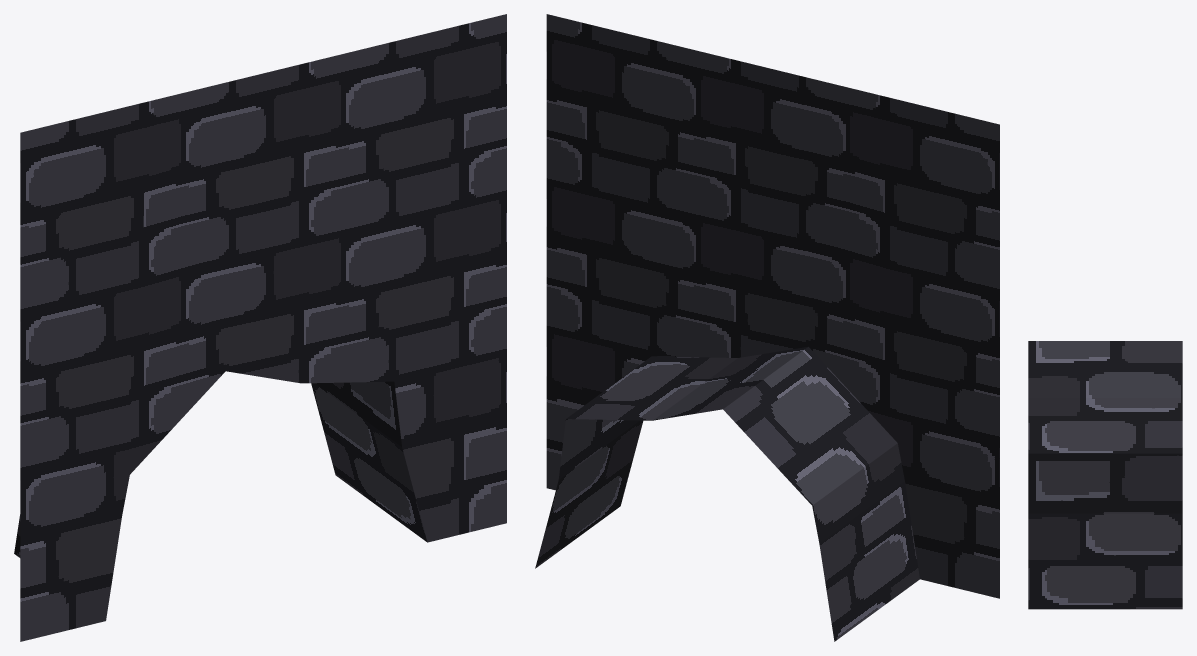
The model's file is BrokenWall.fbx.
3 renders of one model, left to right at view 1: azimuth 30°, elevation 25°; view 2: azimuth 150°, elevation 25°; view 3: azimuth 270°, elevation 25°, orthographic. The views are drawn at different scales.
Parts seen in each view (by area): view 1: Wall.003; view 2: Wall.003; view 3: Wall.003.
Part boxes in pixels (left/top/right/bottom): Wall.003: left=14, top=14, right=506, bottom=641; Wall.003: left=535, top=14, right=999, bottom=641; Wall.003: left=1028, top=341, right=1182, bottom=609.
Bounding box in the file's own units: 400 × 400 × 131.
